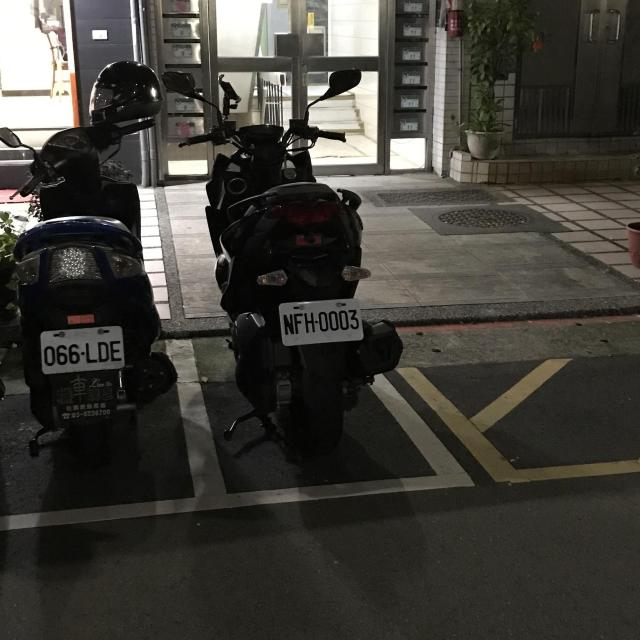W: (272, 295, 368, 348), (37, 323, 129, 374)
